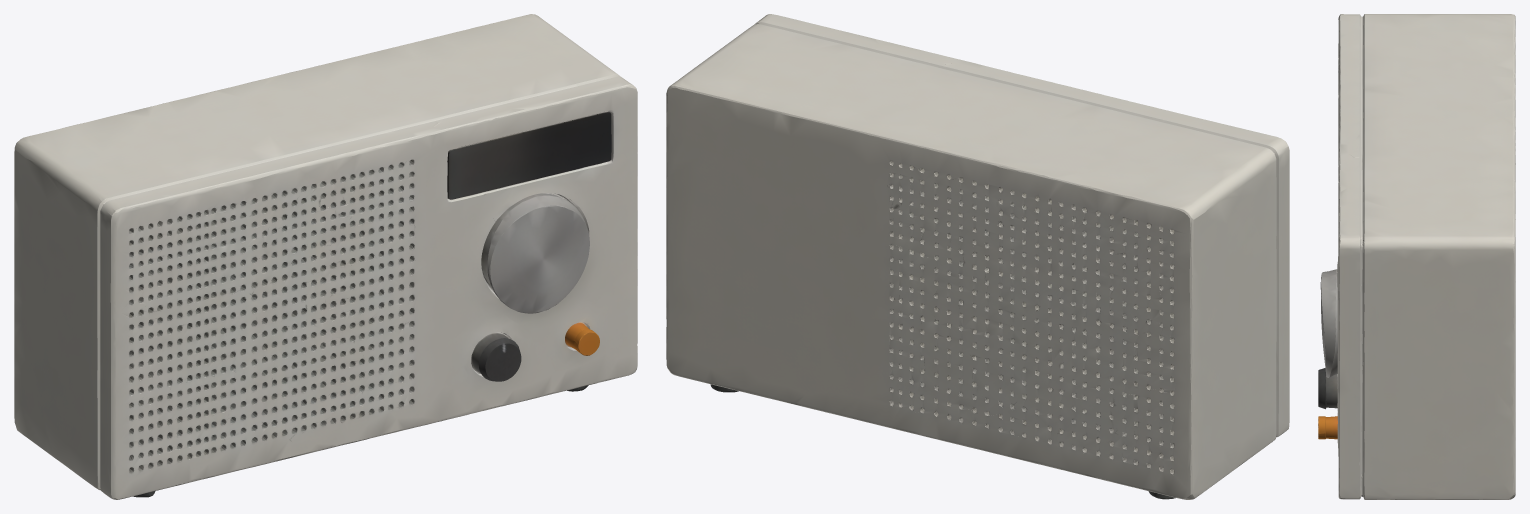
Rendered from radio-base.glb.
The picture shows the model from 3 angles, left to right: view 1: azimuth 30°, elevation 25°; view 2: azimuth 150°, elevation 25°; view 3: azimuth 270°, elevation 25°; orthographic projection. The views are drawn at different scales.
Parts seen in each view (by area): view 1: model; view 2: model; view 3: model.
Part boxes in pixels (x1,y1,x2,y2): model: (14, 14, 637, 499); model: (666, 14, 1289, 499); model: (1318, 14, 1515, 499).
Size of the model in its own units: 1.9 by 1.05 by 0.6895.
Materials: 1 (1 with a texture image).
